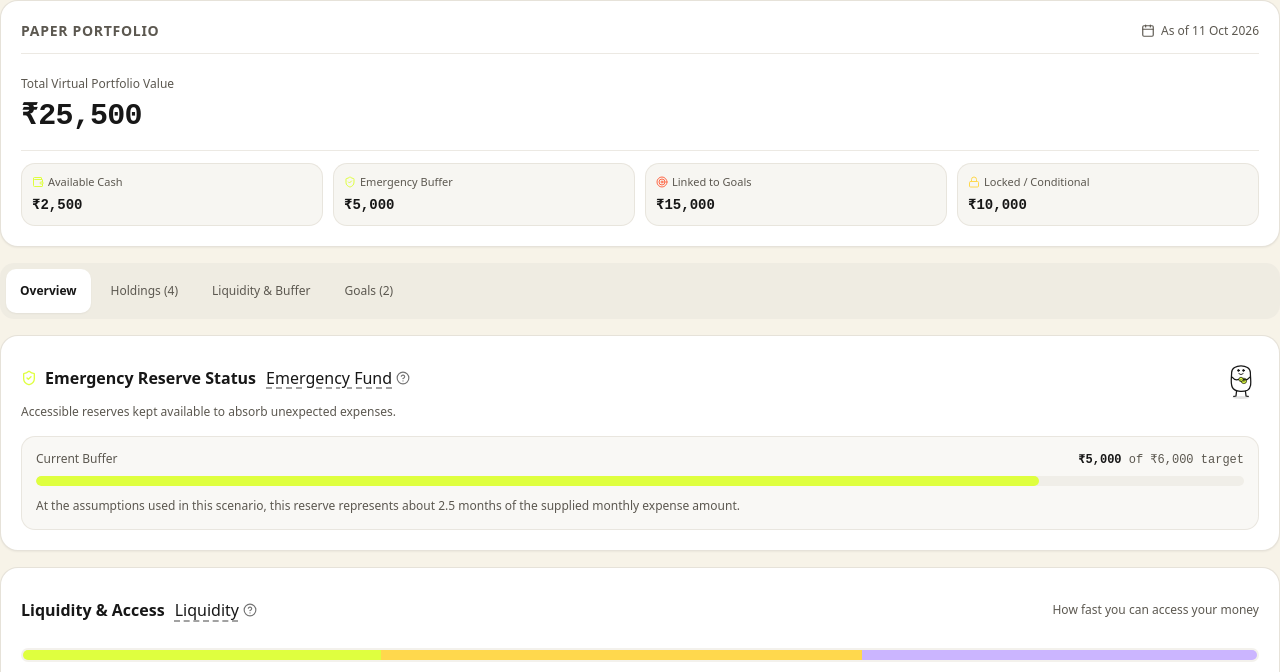
Test: ui › PaperPortfolio UI › switches mobile navigation tabs smoothly without desktop-only dependency
The image size is (1280, 672).
Click the button with test id "portfolio-tab-holdings" at [144, 290], box left=96, top=268, right=192, bottom=312
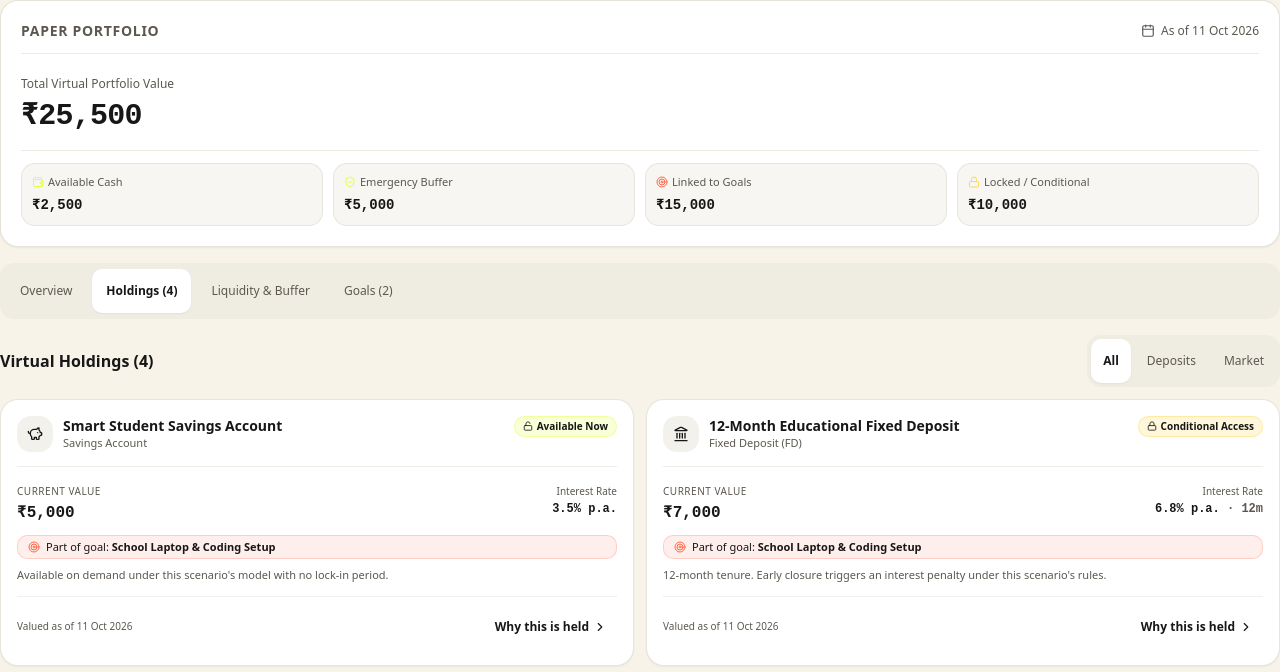
Click the button with test id "portfolio-tab-liquidity" at [261, 290], box left=198, top=268, right=324, bottom=312
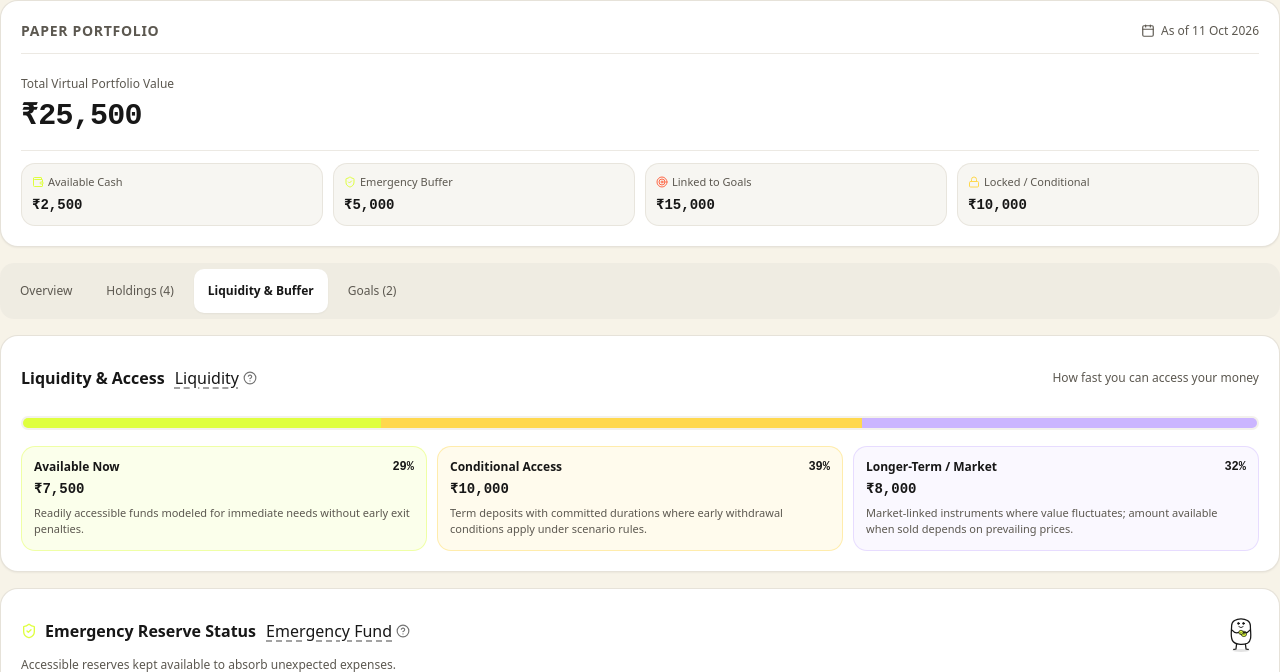
Expected: the element with test id "liquidity-breakdown" is shown, left=0, top=334, right=1279, bottom=572
Click the button with test id "portfolio-tab-goals" at [372, 290], box left=334, top=268, right=410, bottom=312
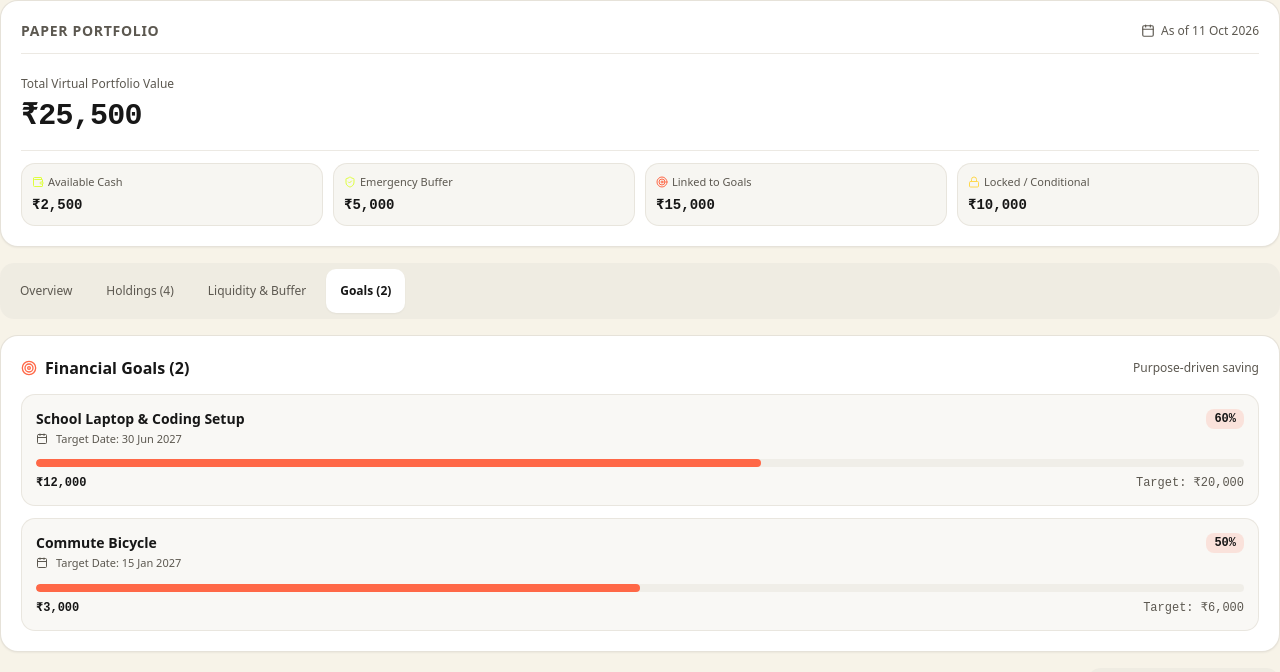
Expected: the element with test id "goals-list-section" is shown, left=0, top=334, right=1279, bottom=652
